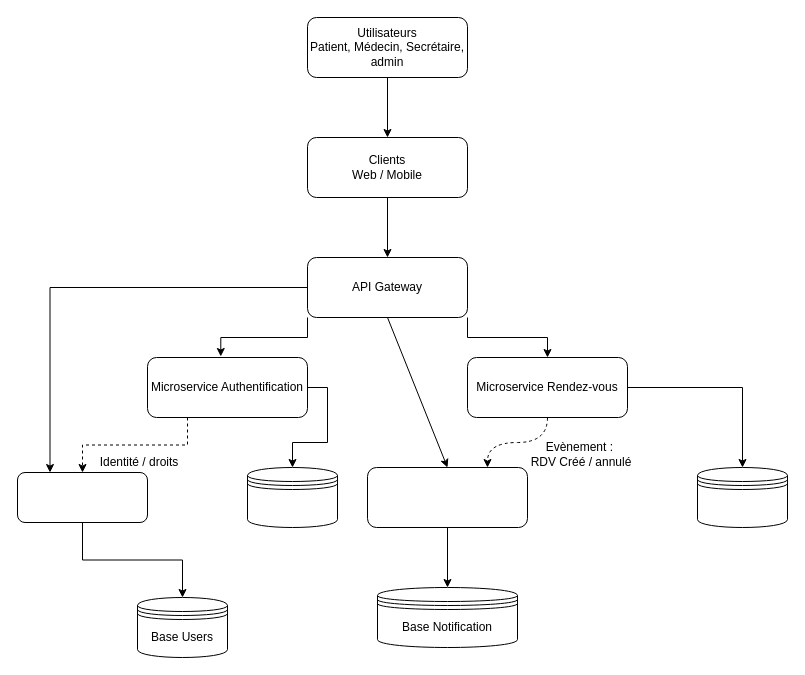
Some shapes in this 805 by 675 pixel diagram are drawn without their labels. Each missing label, with the centre of its shape:
Base Auth: [292,497]
Base RDV: [742,497]
Microservice Notifications: [447,497]
Microservice Utilisateurs: [82,497]
